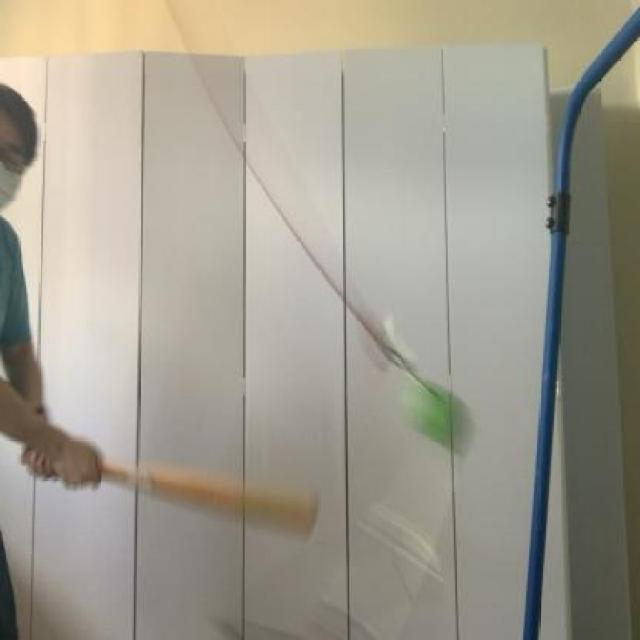baseball: (402, 361, 496, 470)
